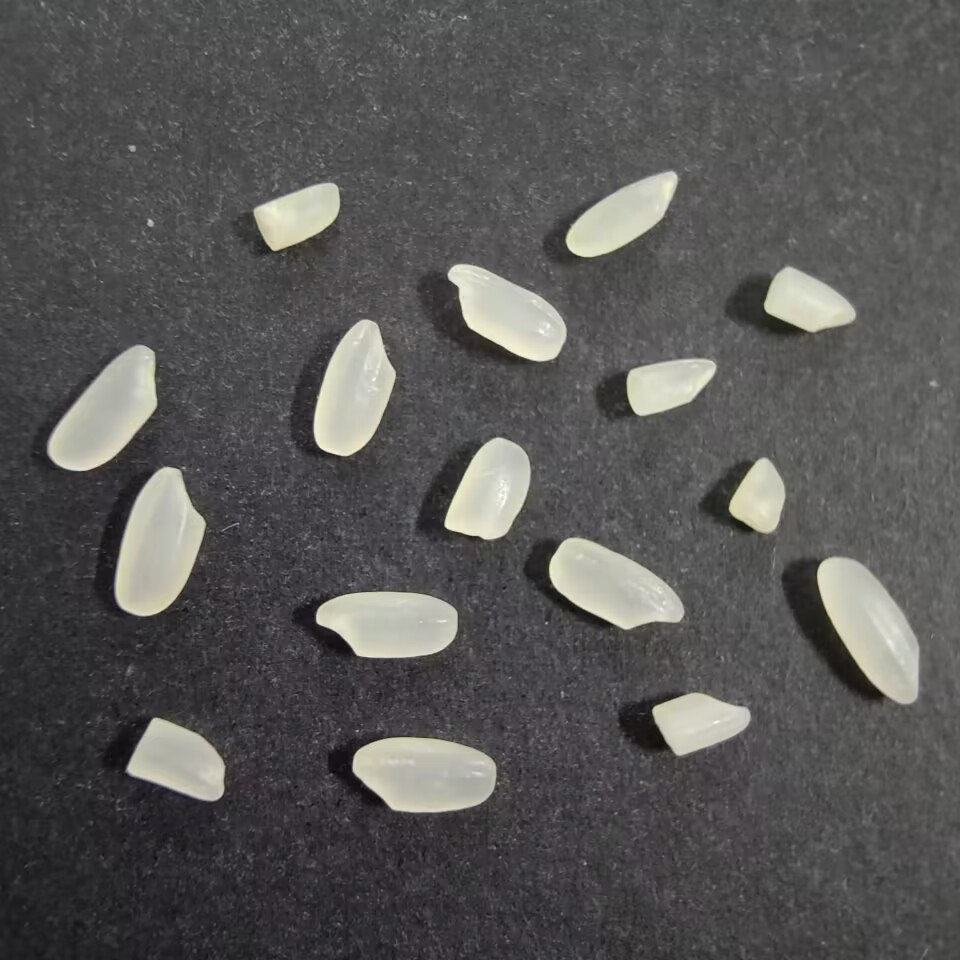broken: (440, 432, 534, 543), (122, 716, 229, 806), (759, 260, 858, 337), (646, 689, 754, 759), (249, 176, 341, 253), (625, 355, 721, 423), (725, 457, 787, 539)
rice: (814, 553, 923, 708), (110, 458, 208, 619), (44, 340, 160, 476), (545, 534, 687, 634), (442, 260, 571, 365), (307, 312, 398, 457), (345, 736, 498, 816), (562, 169, 689, 261), (309, 588, 462, 659)
